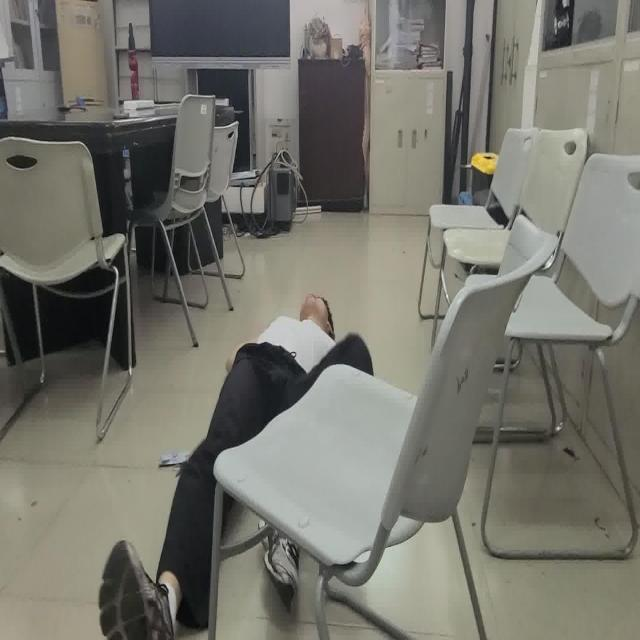fall: (96, 289, 376, 640)
